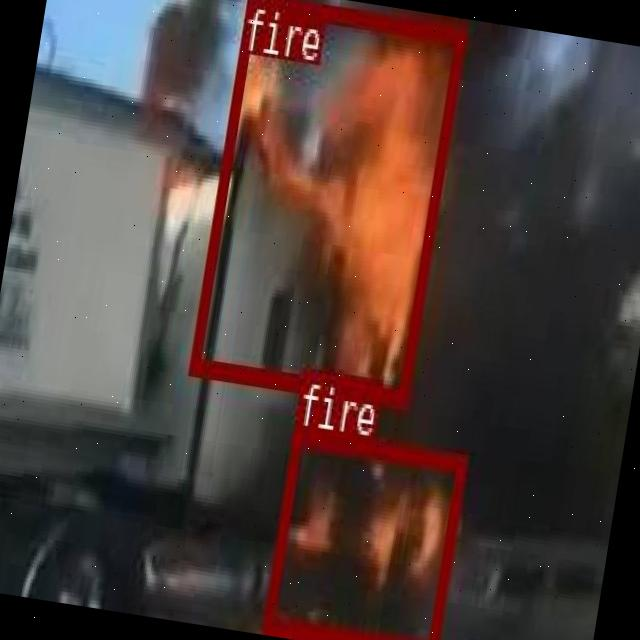fire: (188, 0, 466, 406), (261, 426, 466, 640)
